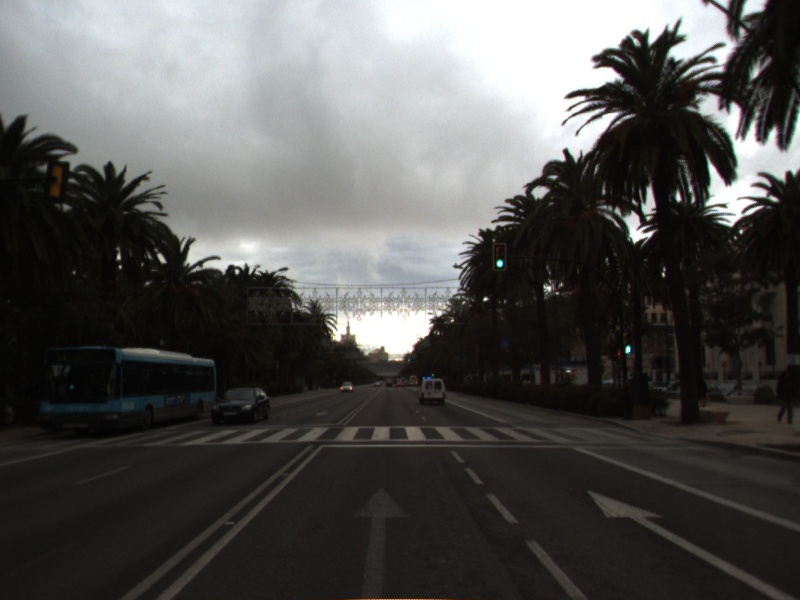STRAIGHT: (583, 486, 800, 600), (346, 481, 417, 600)
